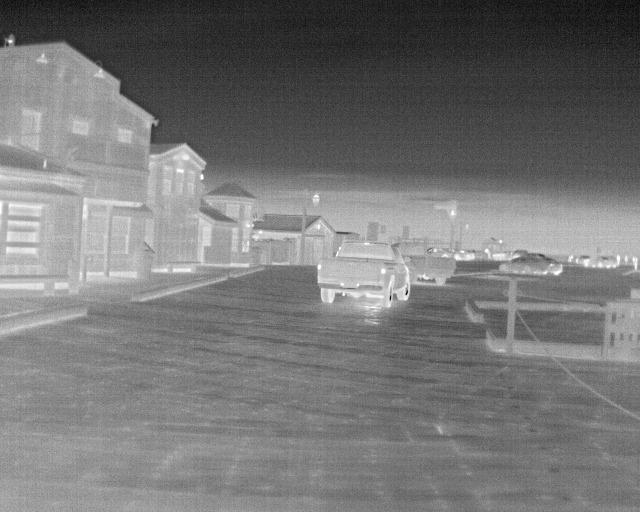car: (315, 238, 411, 310), (389, 239, 456, 287), (496, 254, 549, 275), (543, 257, 564, 278)
